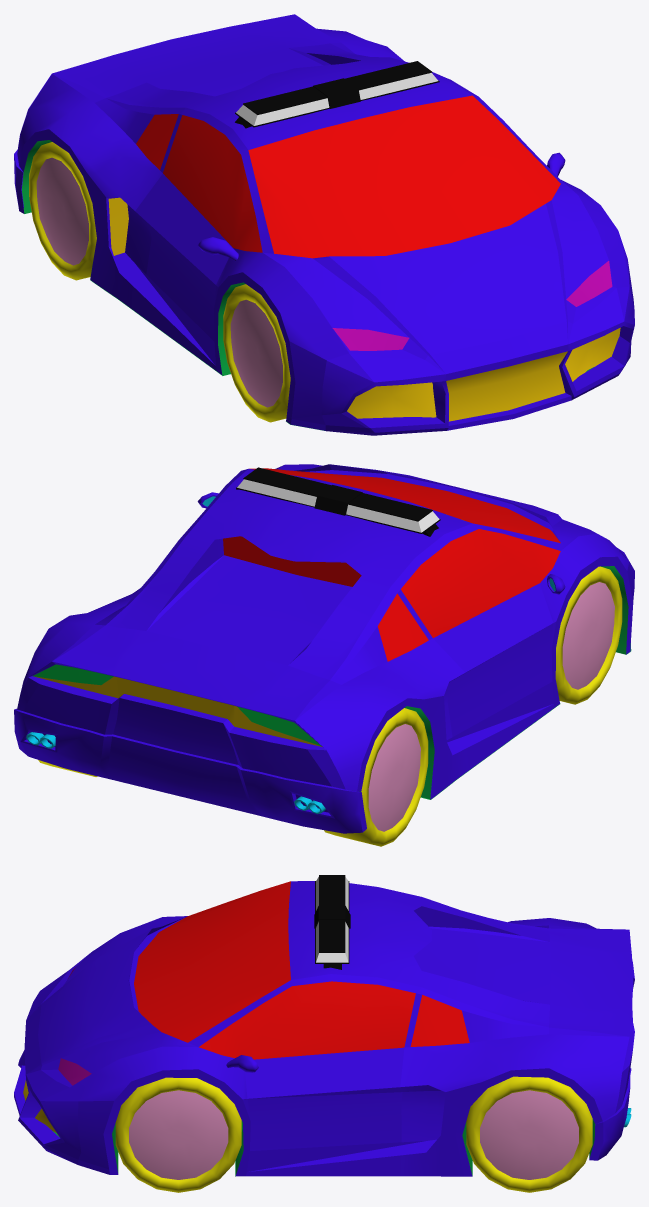
The model's file is 07_TierraBlazePolice_ColorCoded.fbx.
The picture shows the model from 3 angles, top to bottom: view 1: azimuth 30°, elevation 25°; view 2: azimuth 150°, elevation 25°; view 3: azimuth 270°, elevation 25°; orthographic projection. The views are drawn at different scales.
Parts seen in each view (by area): view 1: Body, tireBackR, tireFrontR, police_light; view 2: Body, tireBackR, tireFrontR, police_light; view 3: Body, tireBackL, tireFrontL, police_light.
Part boxes in pixels (x1=…): Body: x1=14, y1=14, x2=634, y2=435; tireBackR: x1=29, y1=142, x2=96, y2=280; tireFrontR: x1=223, y1=284, x2=290, y2=422; police_light: x1=235, y1=61, x2=439, y2=128; Body: x1=14, y1=464, x2=634, y2=833; tireBackR: x1=324, y1=708, x2=428, y2=846; tireFrontR: x1=555, y1=566, x2=622, y2=704; police_light: x1=236, y1=467, x2=440, y2=536; Body: x1=14, y1=881, x2=634, y2=1176; tireBackL: x1=466, y1=1076, x2=592, y2=1192; tireFrontL: x1=115, y1=1077, x2=241, y2=1192; police_light: x1=314, y1=875, x2=350, y2=969.
Size of the model in its own units: 67.51 by 110 by 40.41.
